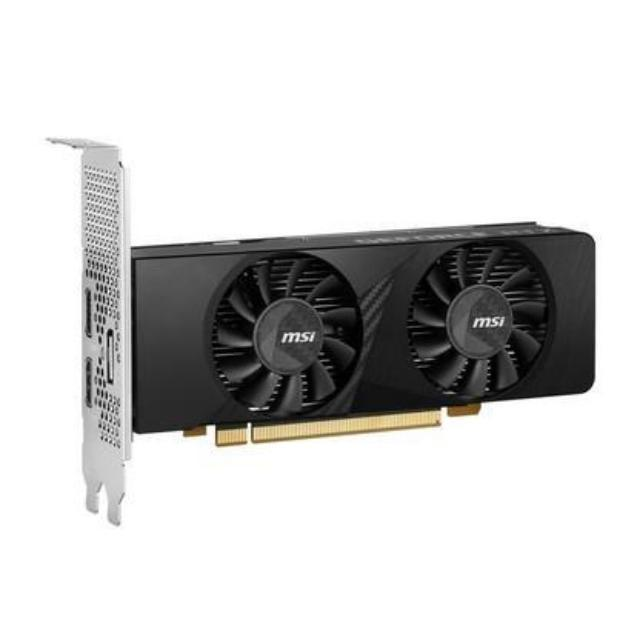GPU: (73, 211, 605, 451)
